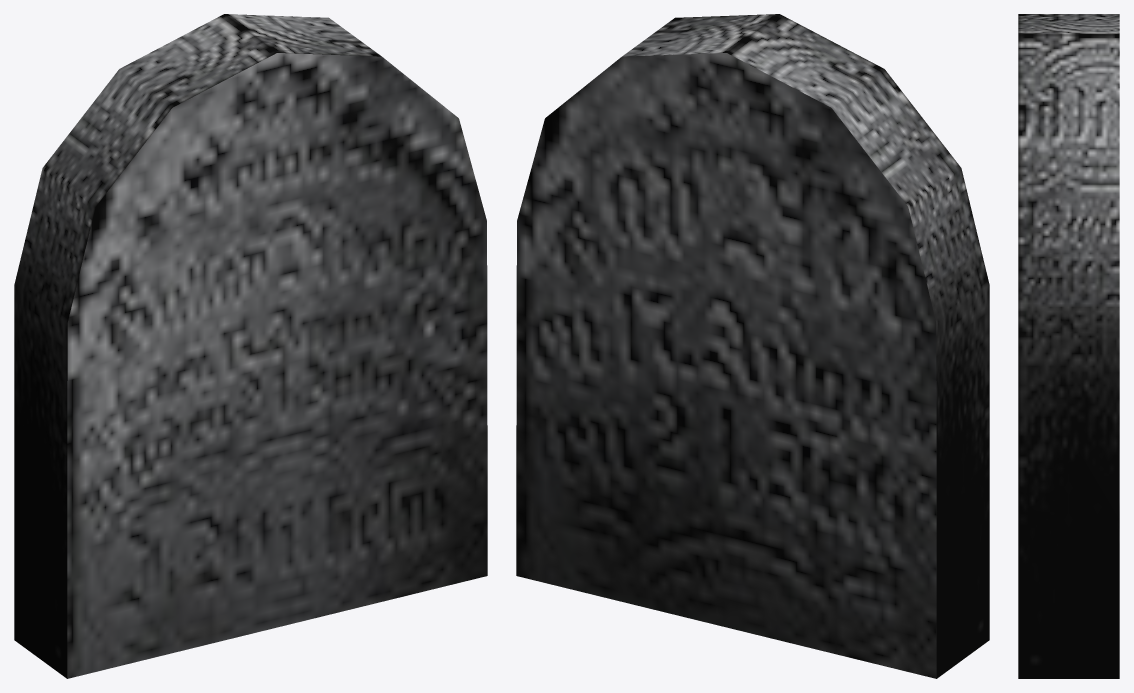
The model's file is Tomb03.glb.
3 views of the same model, side by side, from view 1: azimuth 30°, elevation 25°; view 2: azimuth 150°, elevation 25°; view 3: azimuth 270°, elevation 25° (orthographic). The views are drawn at different scales.
Visible parts, largest first — view 1: Tomb03; view 2: Tomb03; view 3: Tomb03.
Part boxes in pixels (x1,y1,x2,y2): Tomb03: (14,14,487,678); Tomb03: (516,14,989,678); Tomb03: (1018,14,1119,678).
Size of the model in its own units: 0.8976 by 1.17 by 0.1964.
Materials: 1 (1 with a texture image).
